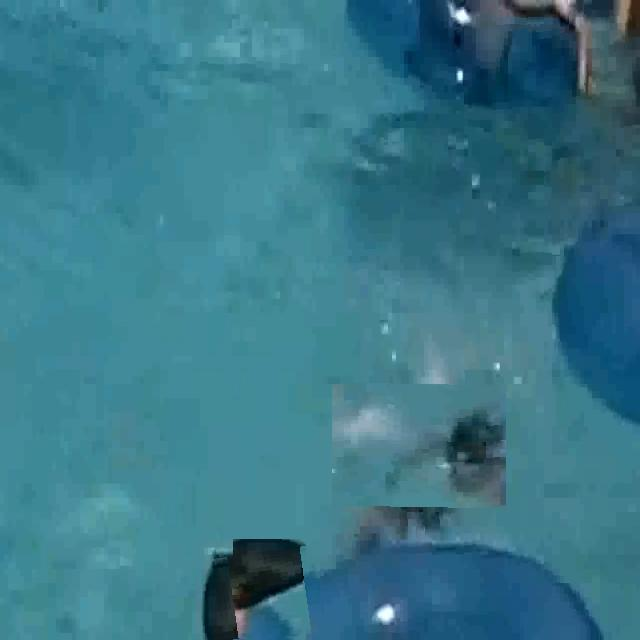Out of Water: (344, 370, 494, 520)
drowning: (215, 548, 321, 640)
